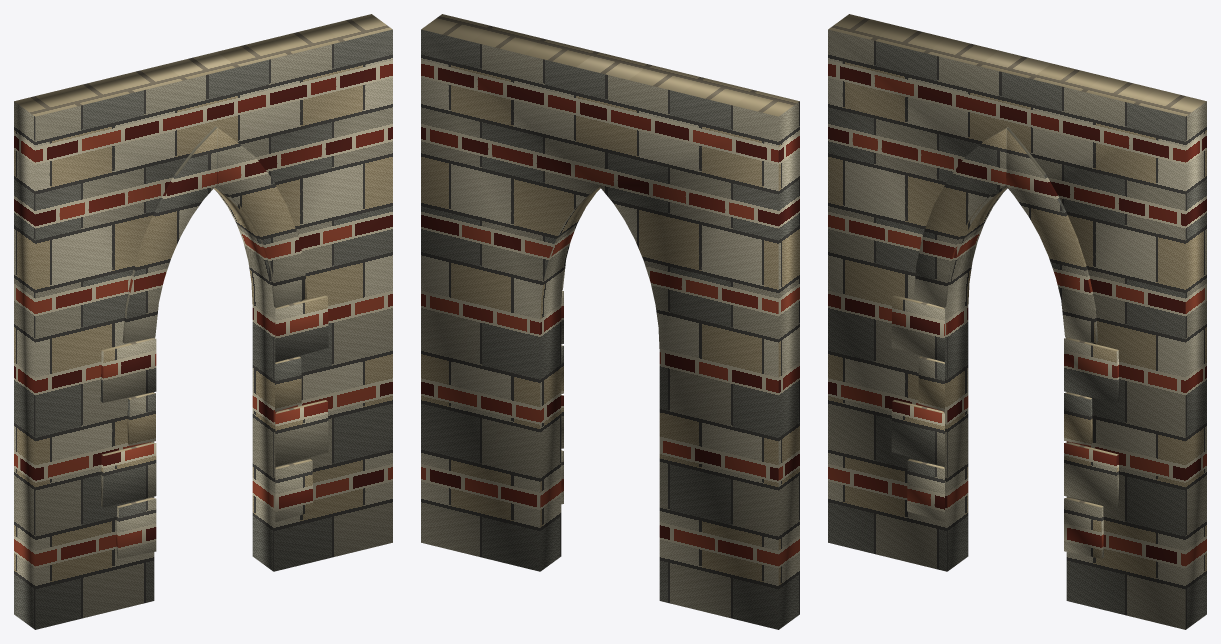
The model's file is byzantine stone wall door.glb.
3 views of the same model, side by side, from view 1: azimuth 30°, elevation 25°; view 2: azimuth 150°, elevation 25°; view 3: azimuth 330°, elevation 25° (orthographic).
Visible parts, largest first — view 1: ByzSwap_stone_wall_door_Pointed Arch Door; view 2: ByzSwap_stone_wall_door_Pointed Arch Door; view 3: ByzSwap_stone_wall_door_Pointed Arch Door.
Boxes of the visible parts, <box> form: ByzSwap_stone_wall_door_Pointed Arch Door: <box>14,14,392,629</box>; ByzSwap_stone_wall_door_Pointed Arch Door: <box>421,14,799,629</box>; ByzSwap_stone_wall_door_Pointed Arch Door: <box>828,14,1206,629</box>.
Bounding box in the file's own units: 2 × 2.74 × 0.225.
Materials: 3 (3 with a texture image).
